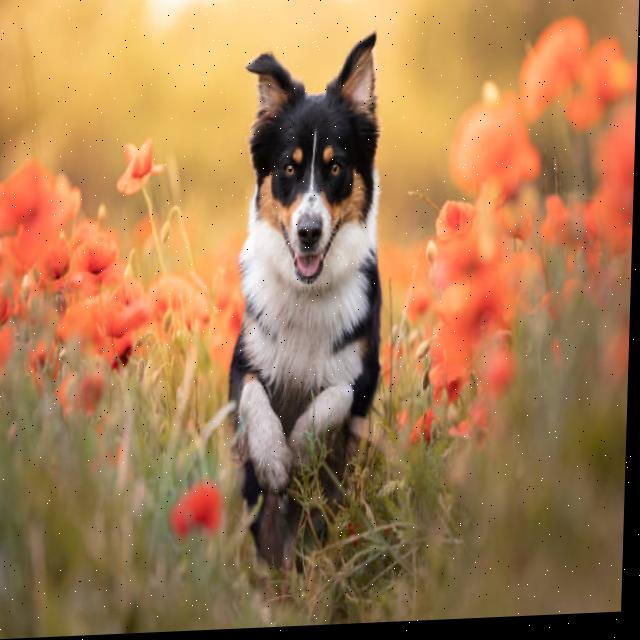BORDER_COLLIE: (207, 28, 404, 578)
